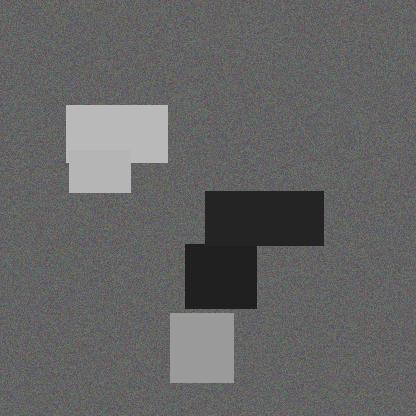empty: (250, 132, 309, 214), (188, 73, 256, 119)
occupied: (292, 236, 343, 304), (129, 260, 190, 305)
